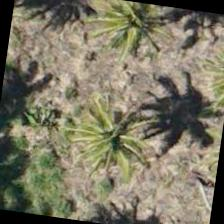Kelapa_Sawit: (62, 86, 164, 188), (83, 0, 184, 84)
